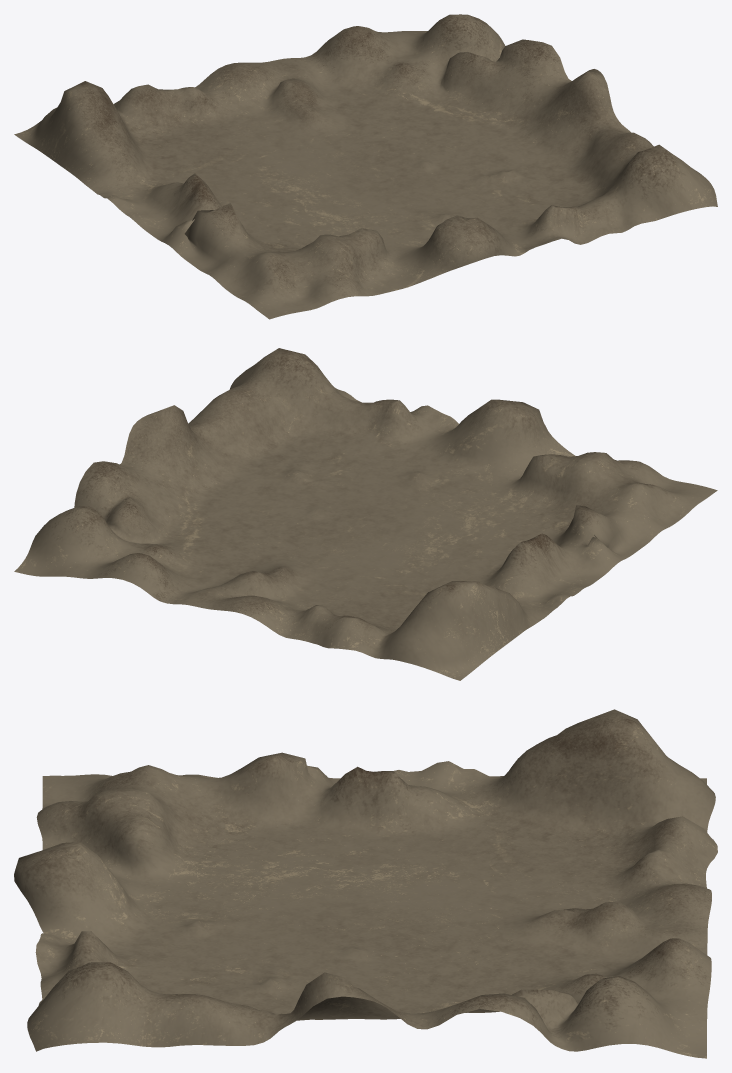
Rendered from dirtground.glb.
3 renders of one model, top to bottom at view 1: azimuth 30°, elevation 25°; view 2: azimuth 150°, elevation 25°; view 3: azimuth 270°, elevation 25°, orthographic. The views are drawn at different scales.
Visible parts, largest first — view 1: Plane; view 2: Plane; view 3: Plane.
Boxes of the visible parts, box(x1,y1,x2,y2) form: Plane: box(14, 14, 717, 319); Plane: box(14, 348, 717, 680); Plane: box(14, 709, 717, 1058).
Bounding box in the file's own units: 174 × 23.27 × 177.
1 material, 1 textured.
